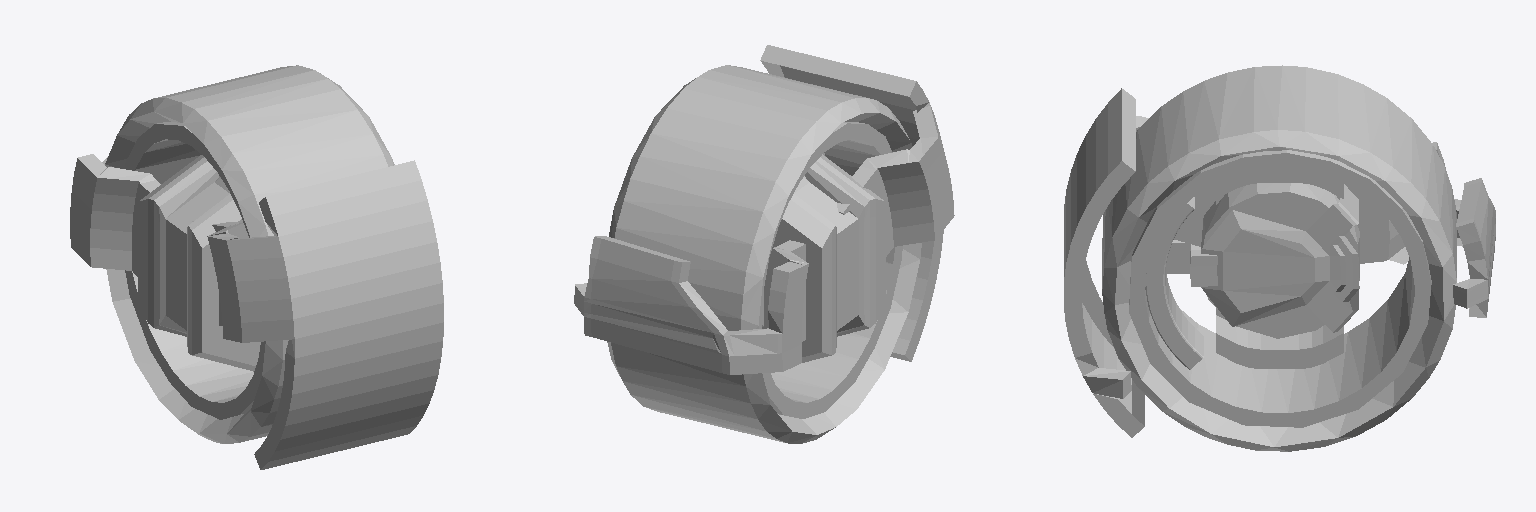
The model's file is Terrenator_rearLeftWheel.obj.
3 views of the same model, side by side, from view 1: azimuth 30°, elevation 25°; view 2: azimuth 150°, elevation 25°; view 3: azimuth 270°, elevation 25° (orthographic).
Visible parts, largest first — view 1: KPBL, BL; view 2: BL, KPBL; view 3: BL, KPBL.
Part boxes in pixels (x1,y1,x2,y2): KPBL: (70, 154, 443, 469); BL: (105, 65, 394, 443); BL: (607, 65, 921, 443); KPBL: (574, 45, 954, 374); BL: (1102, 65, 1456, 451); KPBL: (1064, 88, 1495, 437).
Bounding box in the file's own units: 1.26 × 1.94 × 2.36.